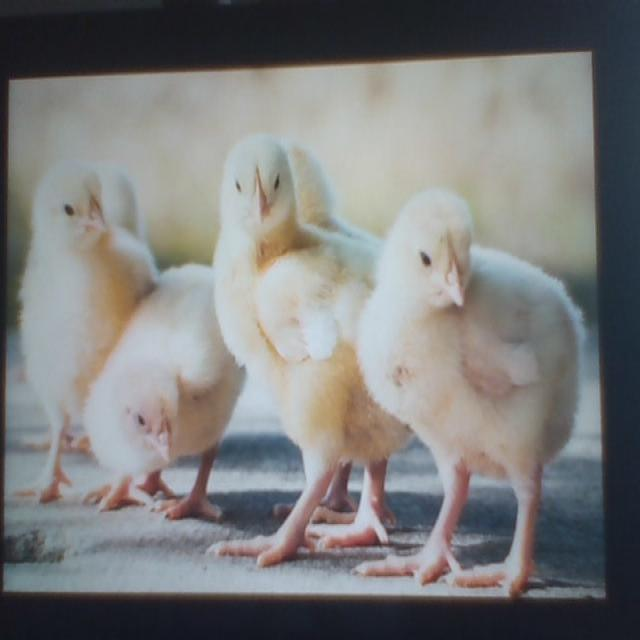Healthy: (370, 185, 574, 596), (212, 119, 394, 550), (19, 162, 131, 393)
Sick: (76, 260, 240, 521)
